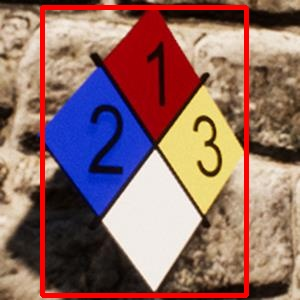nfpa: (42, 7, 246, 295)
